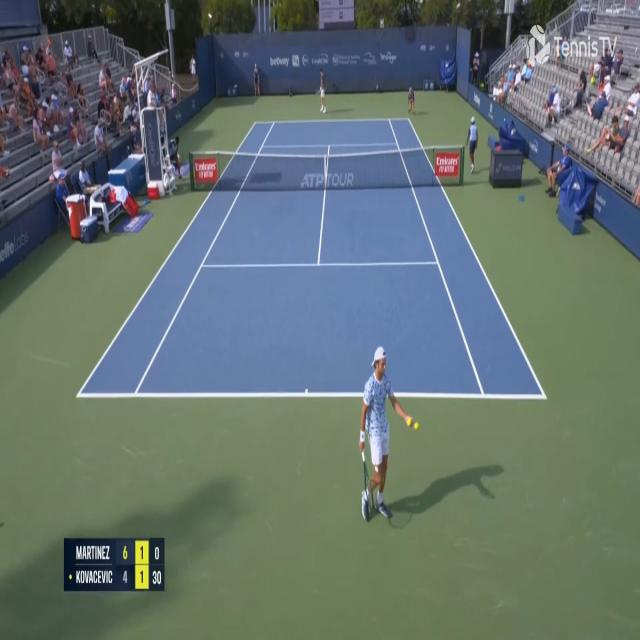tennis-player: (358, 344, 421, 524), (315, 66, 327, 115)
